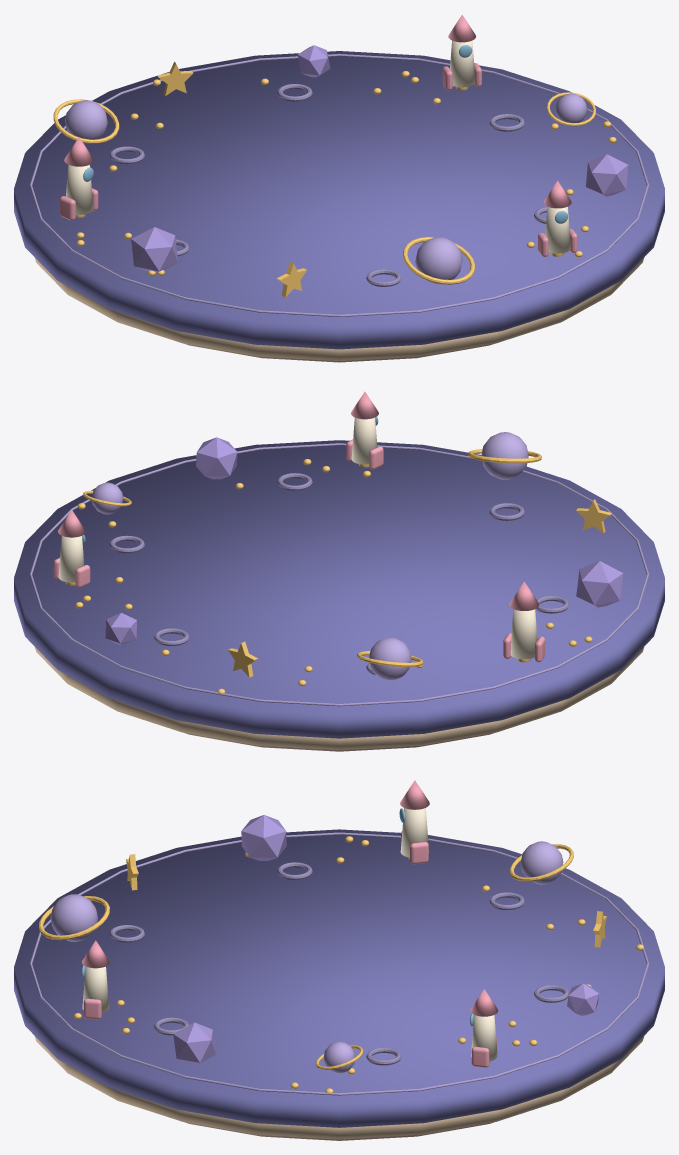
Rendered from world.glb.
3 views of the same model, one above another, from view 1: azimuth 30°, elevation 25°; view 2: azimuth 150°, elevation 25°; view 3: azimuth 270°, elevation 25° (orthographic).
Parts seen in each view (by area): view 1: Cone, Cone.001, Torus.127, planet.003, rocket.002, planet.002, rocket.003, rocket.001, gem.002, gem.003, planet.001, gem.001 (+3 smaller); view 2: Cone, Cone.001, Torus.127, rocket.002, planet.003, rocket.003, rocket.001, gem.002, planet.002, gem.003, planet.001, gem.001 (+3 smaller); view 3: Cone, Cone.001, Torus.127, planet.003, rocket.002, planet.002, rocket.003, rocket.001, gem.002, gem.003, planet.001, gem.001 (+1 smaller).
Boxes of the visible parts, box(x1,y1,x2,y2) form: Cone: box(14, 51, 664, 349); Cone.001: box(34, 257, 644, 360); Torus.127: box(29, 54, 649, 316); planet.003: box(403, 237, 474, 284); rocket.002: box(60, 137, 98, 220); planet.002: box(53, 99, 119, 143); rocket.003: box(538, 180, 577, 256); rocket.001: box(442, 15, 481, 90); gem.002: box(131, 227, 177, 273); gem.003: box(585, 154, 628, 196); planet.001: box(546, 92, 595, 126); gem.001: box(298, 45, 330, 77); Cone: box(14, 440, 664, 738); Cone.001: box(34, 647, 644, 750); Torus.127: box(29, 443, 649, 706); rocket.002: box(503, 581, 545, 662); planet.003: box(468, 432, 541, 479); rocket.003: box(346, 391, 383, 469); rocket.001: box(53, 510, 90, 587); gem.002: box(576, 561, 623, 607); planet.002: box(357, 637, 423, 680); gem.003: box(196, 437, 237, 479); planet.001: box(83, 482, 131, 514); gem.001: box(105, 612, 136, 644); Cone: box(14, 829, 664, 1127); Cone.001: box(34, 1036, 644, 1139); Torus.127: box(30, 832, 648, 1095); planet.003: box(39, 894, 109, 941); rocket.002: box(399, 780, 429, 864); planet.002: box(510, 841, 573, 884); rocket.003: box(81, 940, 109, 1019); rocket.001: box(470, 989, 498, 1067); gem.002: box(241, 815, 286, 860); gem.003: box(173, 1022, 215, 1064); planet.001: box(315, 1041, 363, 1073); gem.001: box(567, 983, 598, 1015).
Bounding box in the file's own units: 9.6 × 2.04 × 9.6.
